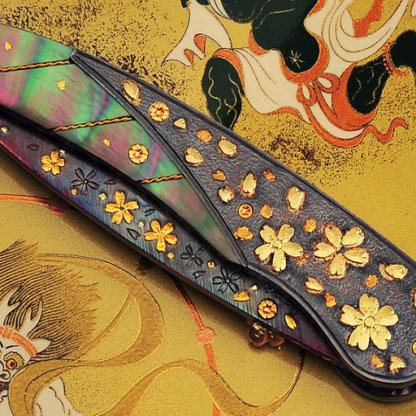knife: (0, 14, 415, 404)
